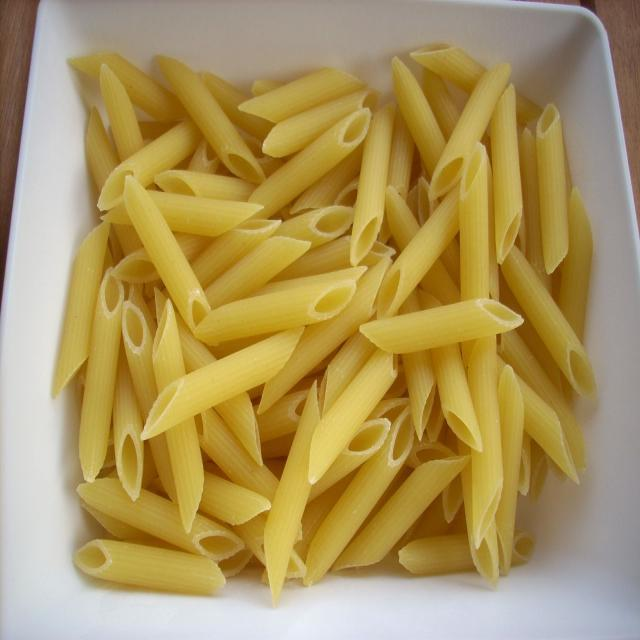Oil pasta: (49, 50, 631, 616)
